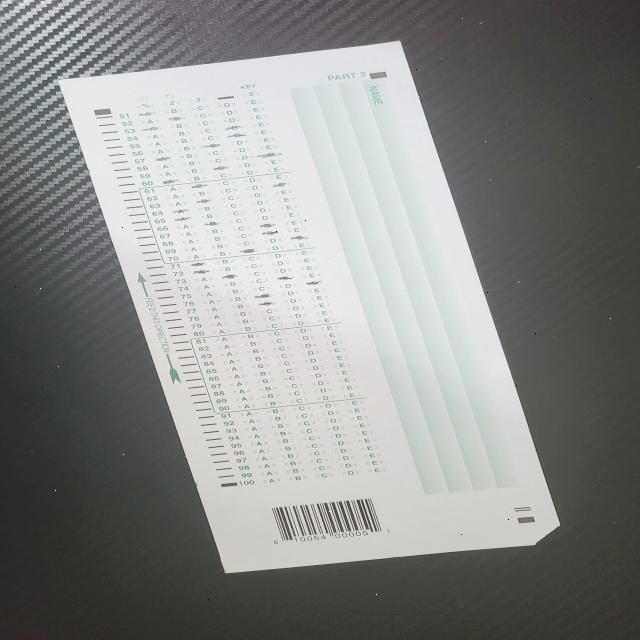scantron_back: (58, 41, 560, 574)
